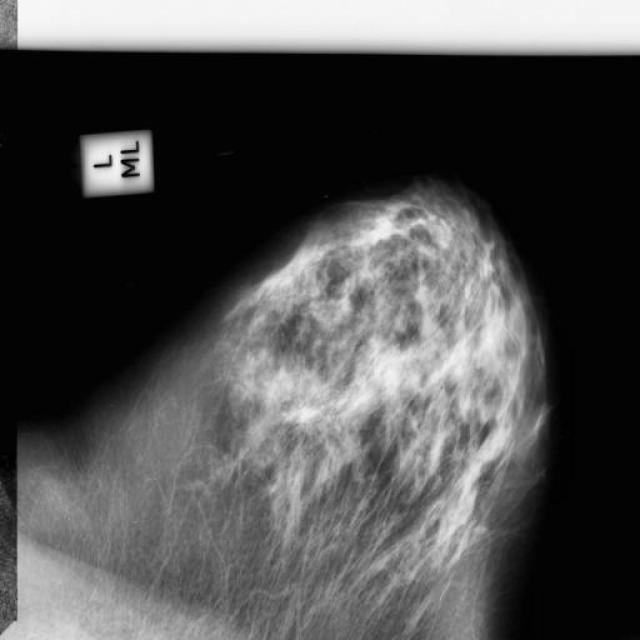cancer: (269, 452, 315, 516)
